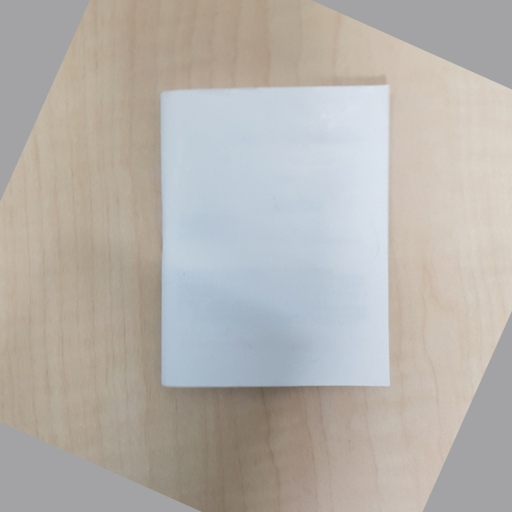Paper_2: (143, 75, 400, 408)
